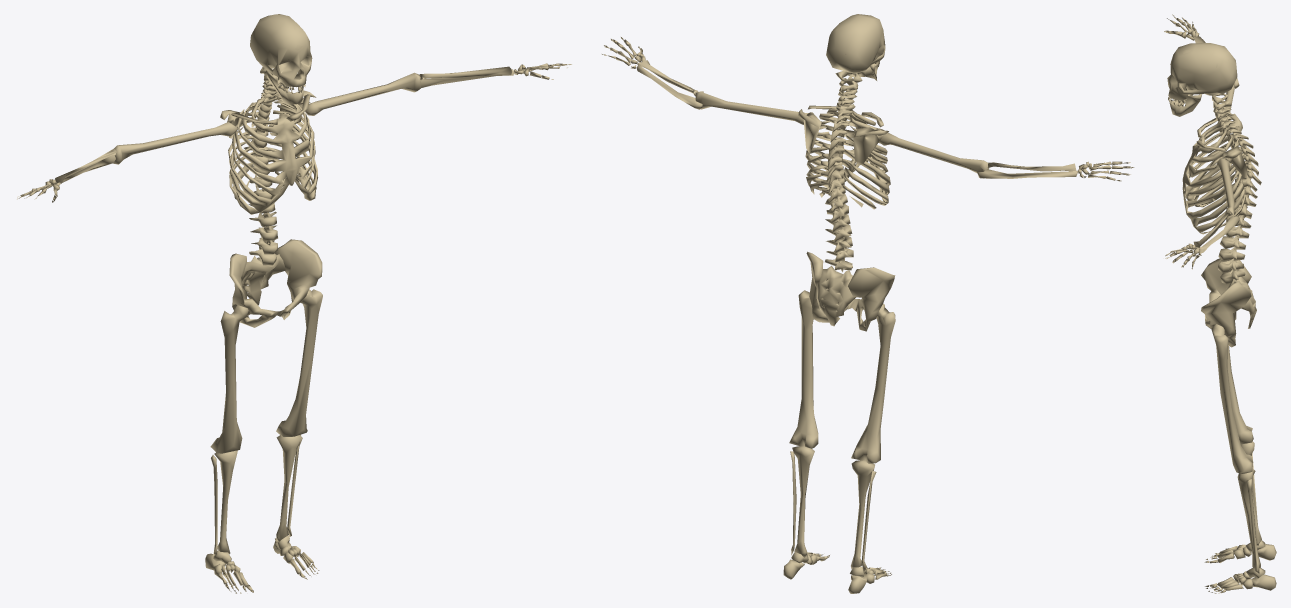
File: human-skeleton-lofi-nobones.obj
3 views of the same model, side by side, from view 1: azimuth 30°, elevation 25°; view 2: azimuth 150°, elevation 25°; view 3: azimuth 270°, elevation 25° (orthographic). The views are drawn at different scales.
Visible parts, largest first — view 1: chest; view 2: chest; view 3: chest.
Part boxes in pixels (x1=…): chest: x1=17, y1=14, x2=571, y2=593; chest: x1=602, y1=14, x2=1134, y2=593; chest: x1=1164, y1=14, x2=1276, y2=593.
Size of the model in its own units: 1.95 by 1.92 by 0.3727.
